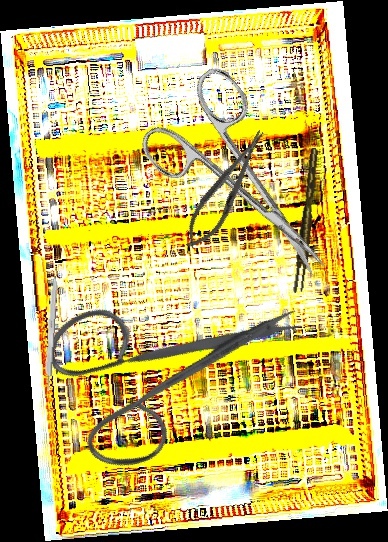Iris Scissors: (10, 207, 310, 515), (128, 61, 362, 311)
Needle Holder: (175, 123, 277, 256)
Scalpel Handle: (42, 275, 59, 391)
Tissue Forceps: (288, 147, 326, 295)
